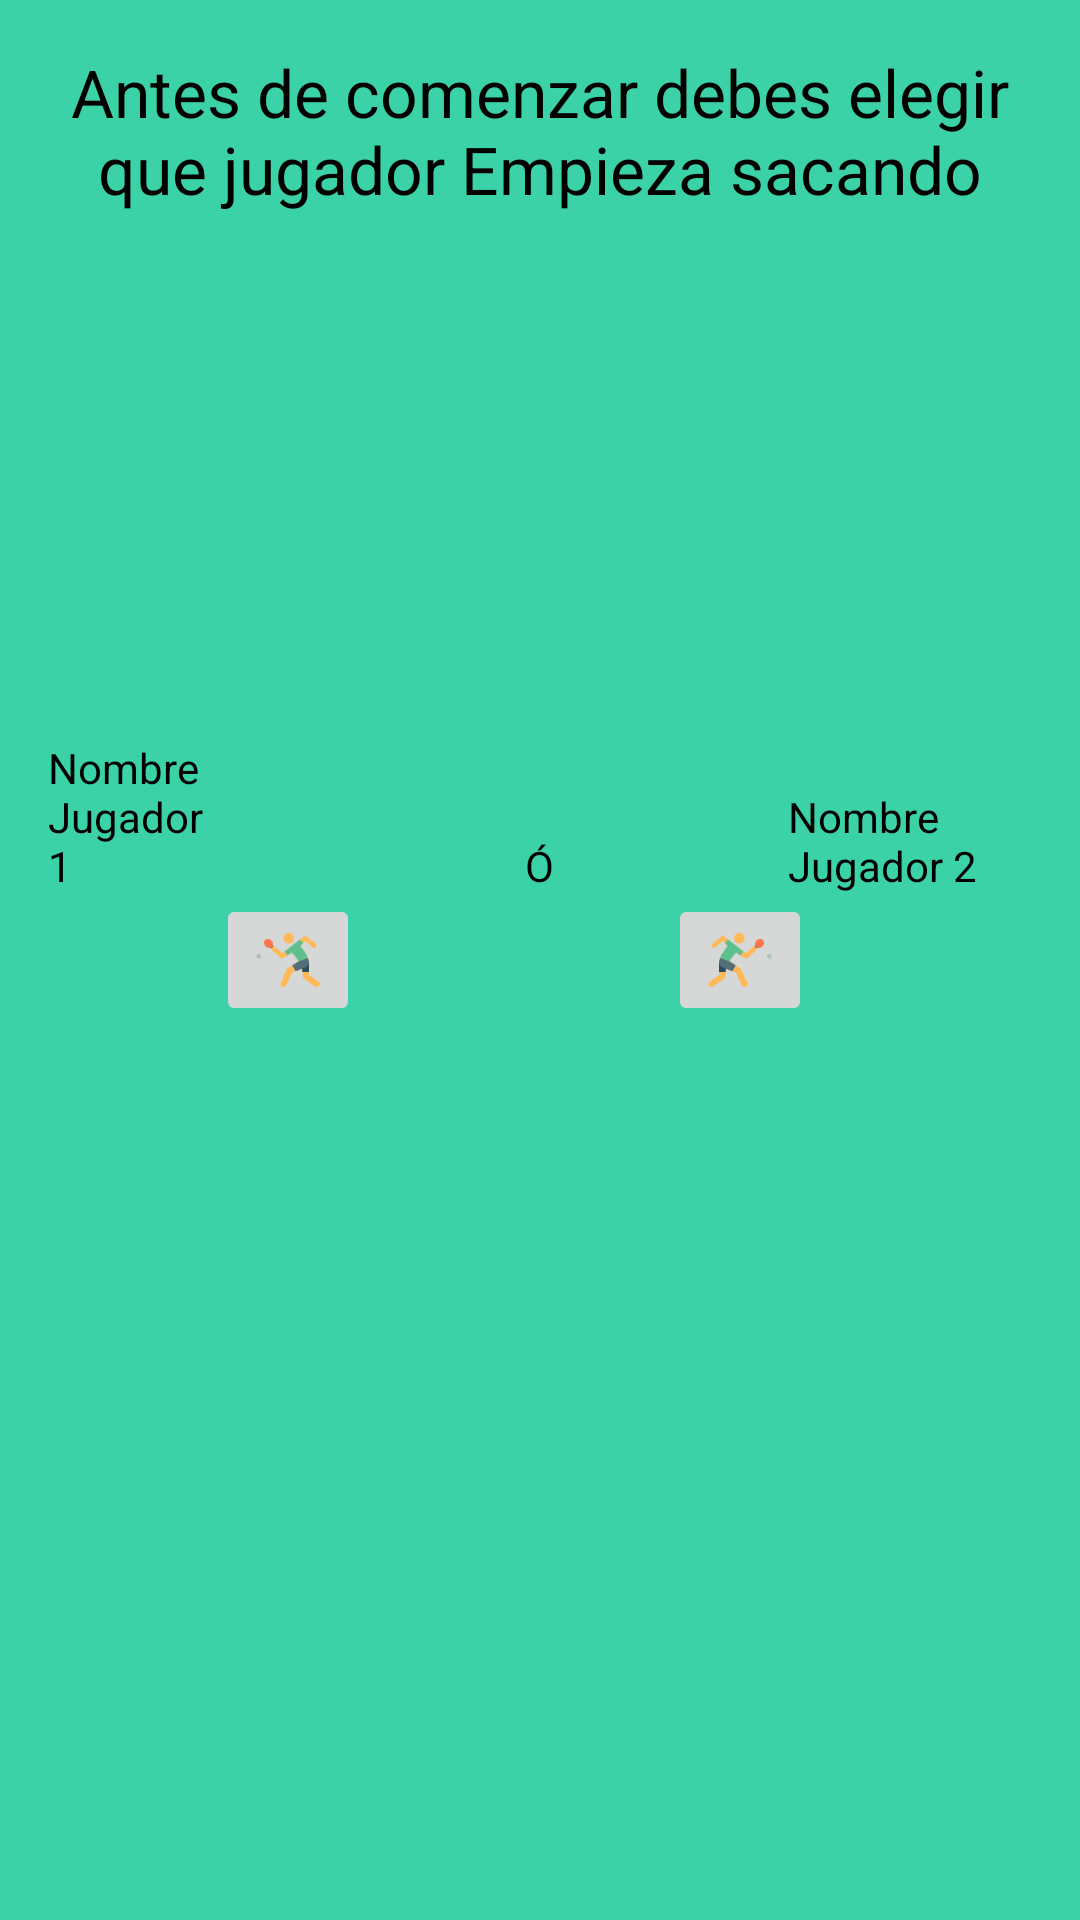

Where to tap for icons on this 1080*1920 app screen, as (x=x, y=y):
saquejp: (x=288, y=960)
saquejs: (x=740, y=960)
